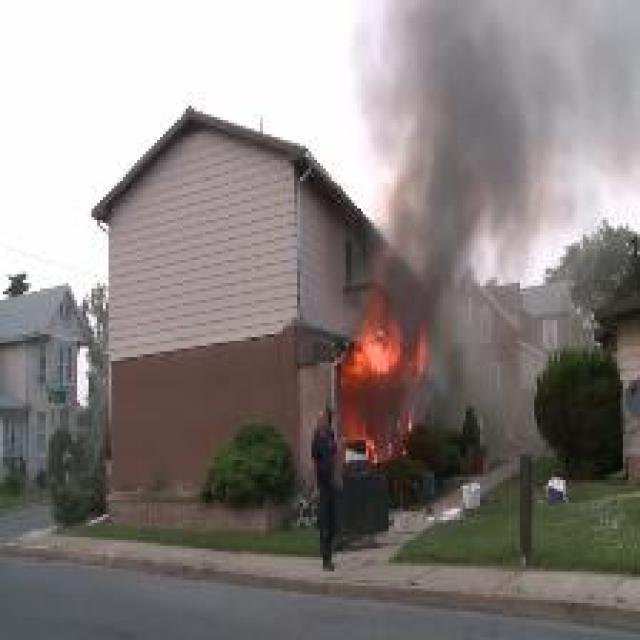Fire: (342, 288, 429, 386)
